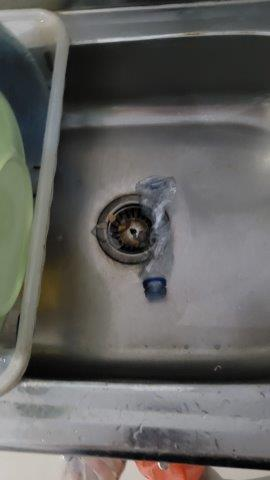botolplastik: (135, 176, 182, 299)
